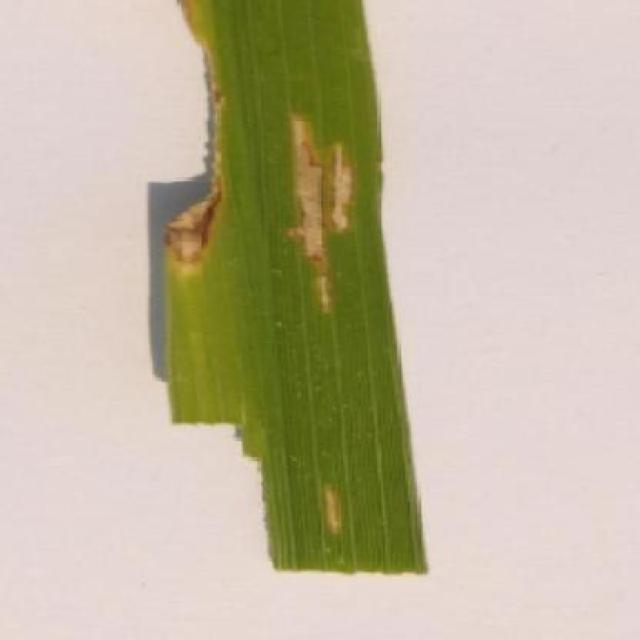Brown_Spot: (160, 0, 434, 582)
